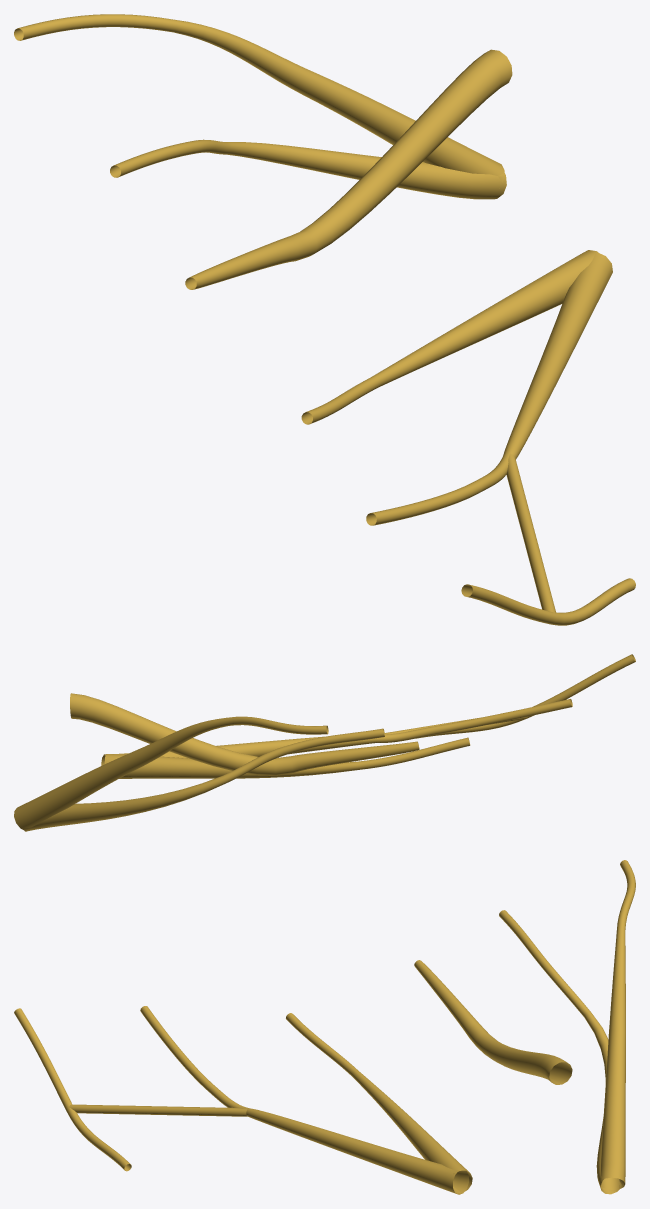
3 views of the same model, one above another, from view 1: azimuth 30°, elevation 25°; view 2: azimuth 150°, elevation 25°; view 3: azimuth 270°, elevation 25° (orthographic). The views are drawn at different scales.
Parts seen in each view (by area): view 1: 左侧臂丛根; view 2: 左侧臂丛根; view 3: 左侧臂丛根.
Part boxes in pixels (x1,y1,x2,y2): 左侧臂丛根: [14, 14, 635, 625]; 左侧臂丛根: [14, 654, 635, 831]; 左侧臂丛根: [14, 860, 635, 1194].
Size of the model in its own units: 0.0633 by 0.0437 by 0.1056.
